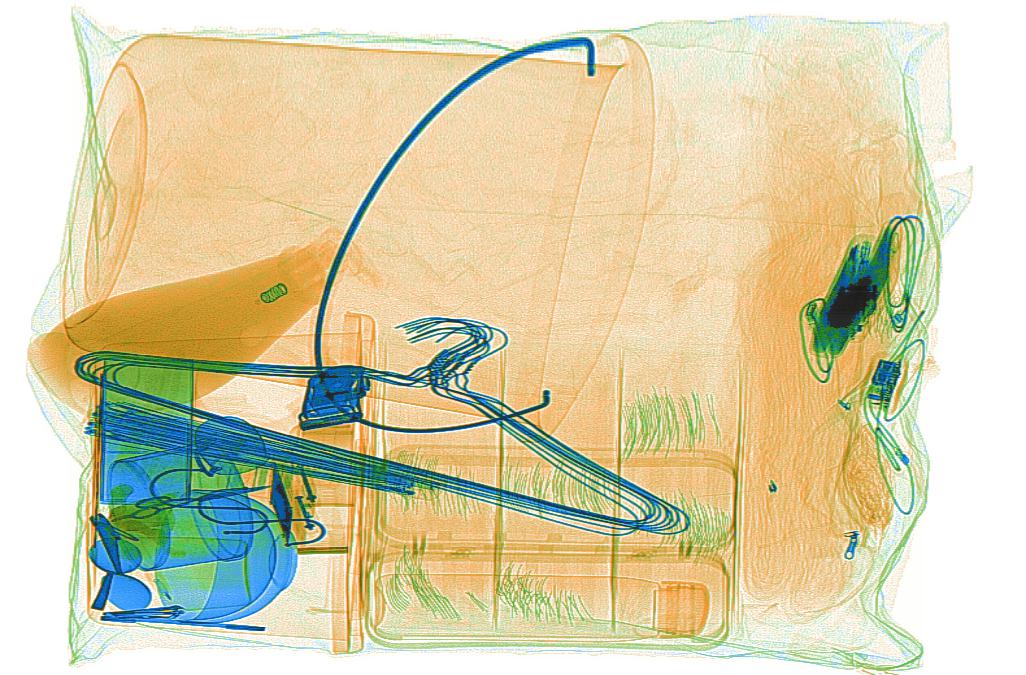plasticBottleWithaNozzle: (23, 222, 387, 421)
scissors: (108, 482, 273, 523)
